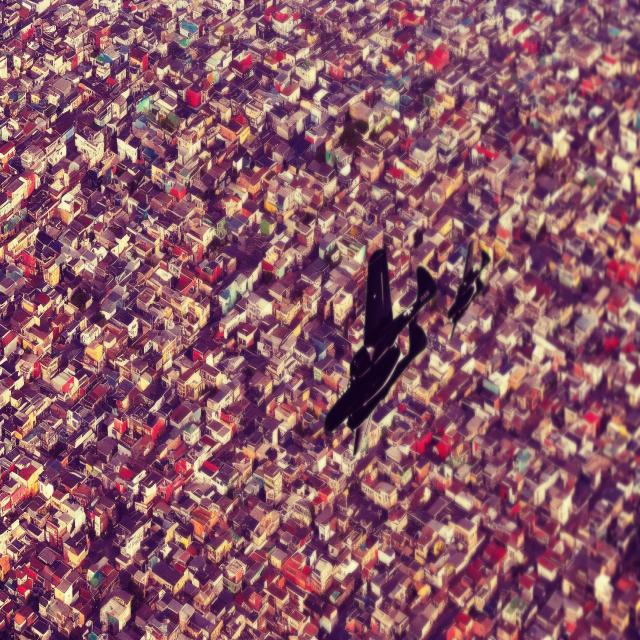airplane: (323, 246, 439, 454), (445, 238, 492, 342)
